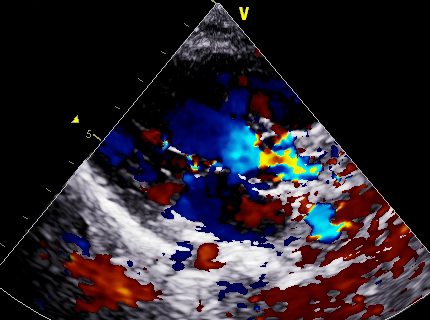MR: (156, 149, 224, 223)
